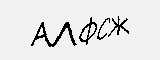А: (31, 21, 52, 48)
Ж: (110, 15, 131, 36)
Л: (52, 21, 77, 48)
С: (98, 16, 110, 40)
Ф: (78, 18, 98, 45)
